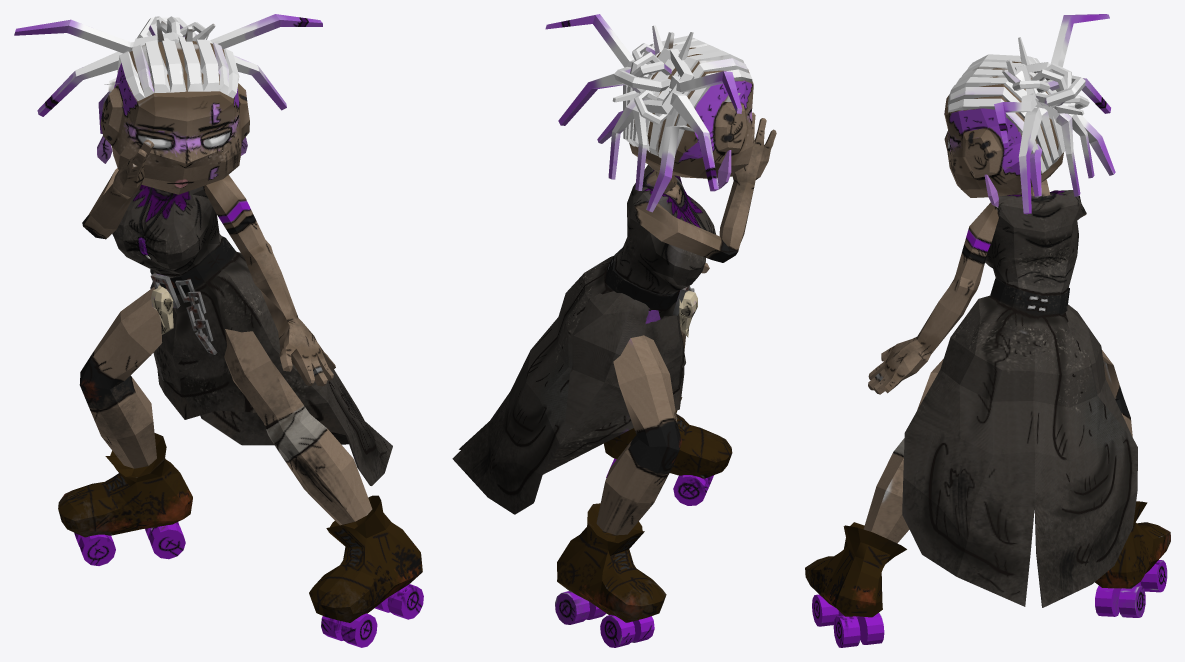
File: bruja_000050.obj
3 views of the same model, side by side, from view 1: azimuth 30°, elevation 25°; view 2: azimuth 150°, elevation 25°; view 3: azimuth 270°, elevation 25° (orthographic). The views are drawn at different scales.
Visible parts, largest first — view 1: Bruja_Plane.001; view 2: Bruja_Plane.001; view 3: Bruja_Plane.001.
Part boxes in pixels (x1,y1,x2,y2): Bruja_Plane.001: [14, 14, 423, 647]; Bruja_Plane.001: [452, 14, 776, 647]; Bruja_Plane.001: [805, 14, 1170, 647].
Bounding box in the file's own units: 9.24 × 15.43 × 9.25.
